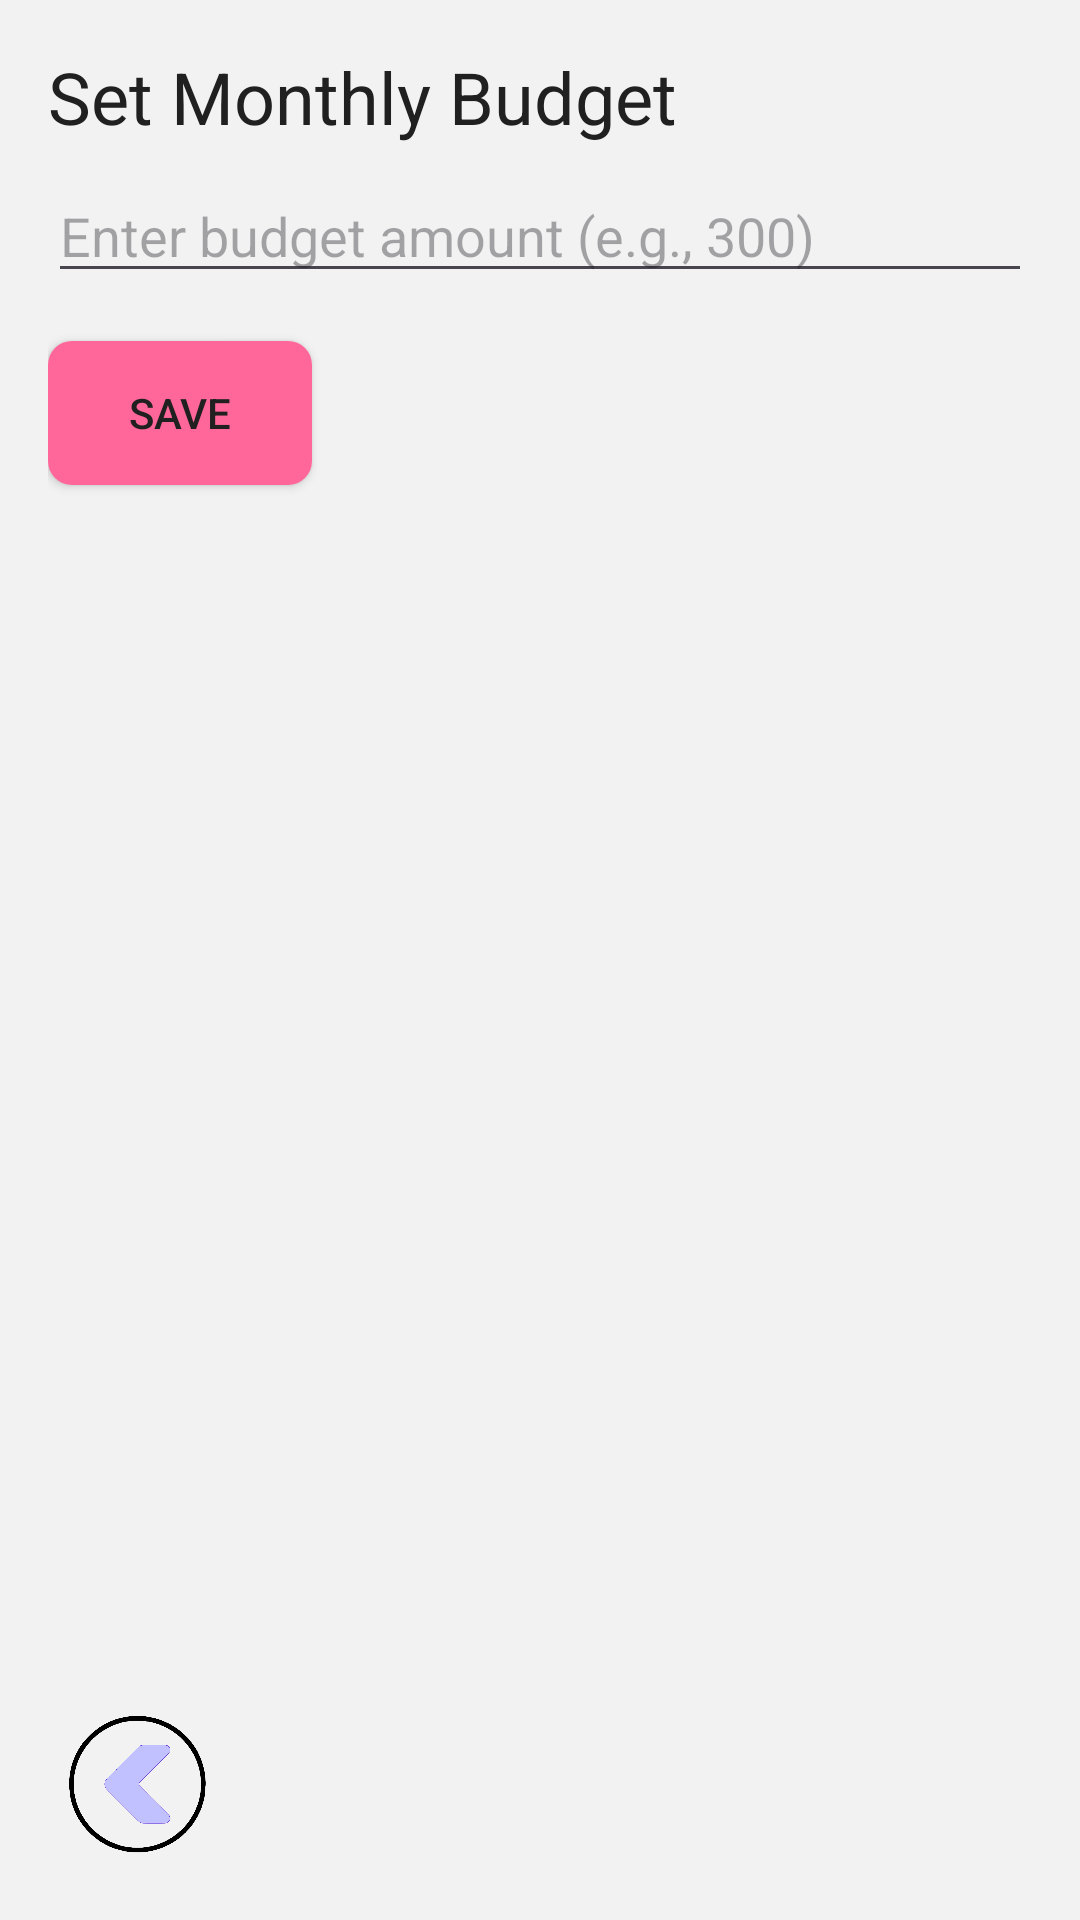

Named icons in this screenshot (1080px x 1920px) and their centers, [x,y]:
back: [137,1784]
